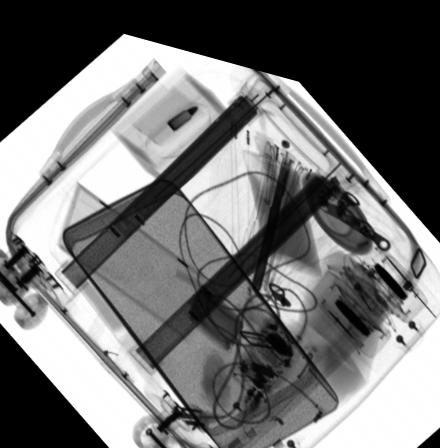Bullet: (165, 94, 197, 122)
